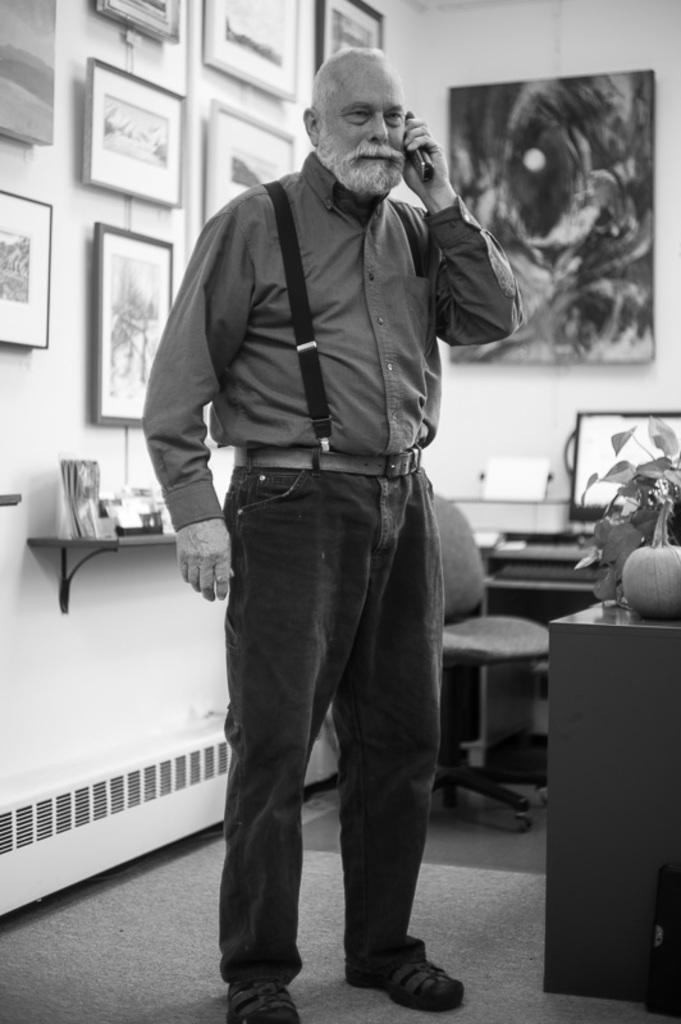Chair: (471, 580, 653, 1010), (419, 480, 563, 820)
